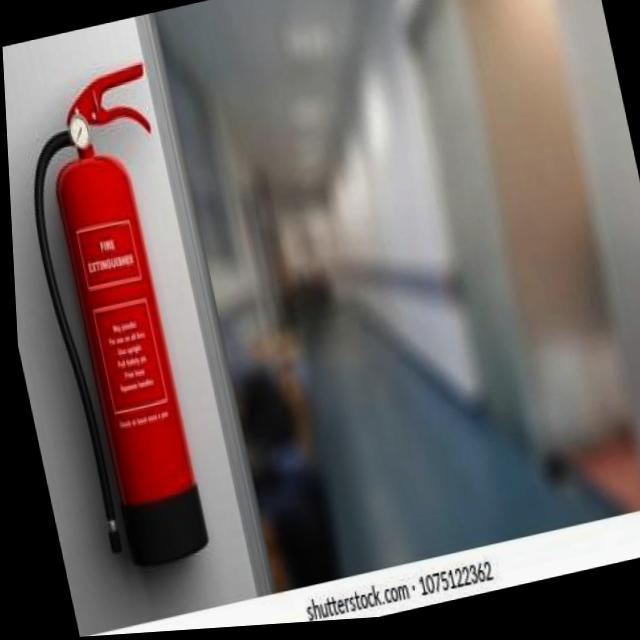FireExtinguisher: (3, 54, 241, 586)
